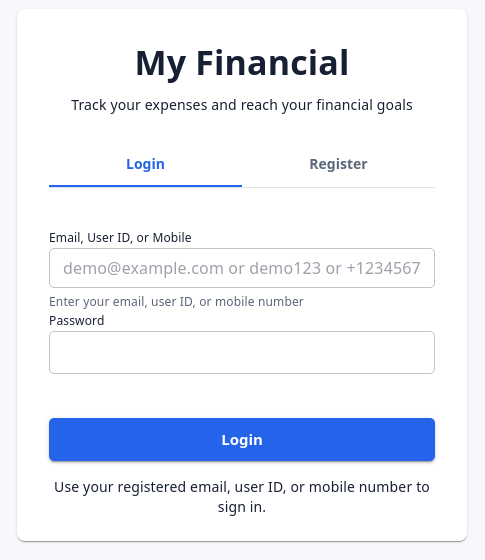
Test: Login › shows validation errors when login is submitted empty
What coordinates should you click on to do the following:
click the button "Login"
I would click on:
 (242, 439)
Its box is top-left (49, 418), bottom-right (435, 461).
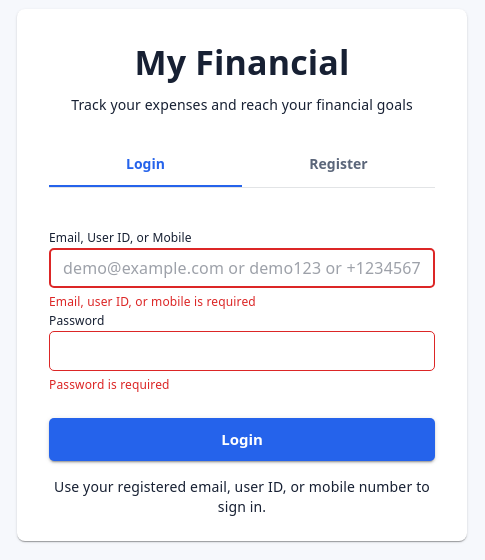
Expected: the text "Email, user ID, or mobile is required" is shown, top-left (49, 293), bottom-right (256, 310)
Expected: the text "Password is required" is shown, top-left (49, 376), bottom-right (170, 393)
